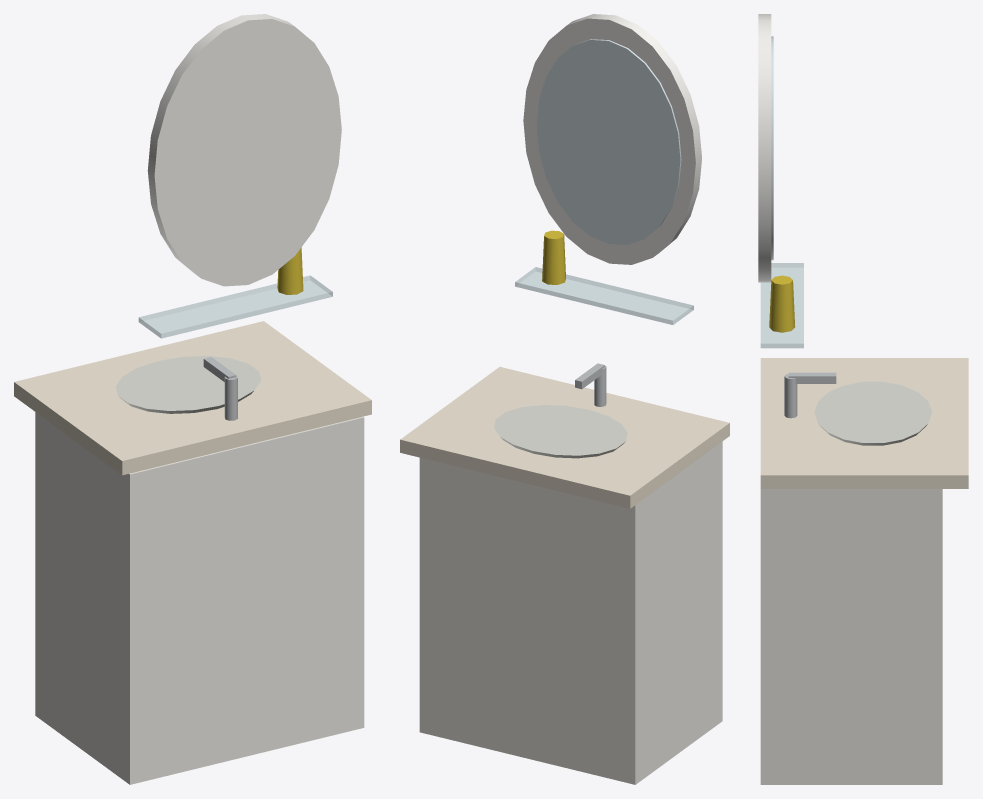
The model's file is vanity.obj.
3 renders of one model, left to right at view 1: azimuth 30°, elevation 25°; view 2: azimuth 150°, elevation 25°; view 3: azimuth 270°, elevation 25°, orthographic. The views are drawn at different scales.
Parts seen in each view (by area): view 1: vanity_0, vanity_5, vanity_1, vanity_2, vanity_7, vanity_8; view 2: vanity_0, vanity_6, vanity_1, vanity_5, vanity_2, vanity_7, vanity_8; view 3: vanity_0, vanity_1, vanity_2, vanity_5, vanity_7, vanity_8, vanity_6, vanity_3, vanity_4.
Part boxes in pixels (x1,y1,x2,y2): vanity_0: (35,412,364,784); vanity_5: (147,14,341,286); vanity_1: (14,321,371,475); vanity_2: (115,356,261,413); vanity_7: (138,275,332,338); vanity_8: (277,247,303,294); vanity_0: (419,441,722,784); vanity_6: (536,39,681,245); vanity_1: (400,367,729,508); vanity_5: (523,14,701,264); vanity_2: (494,405,627,458); vanity_7: (515,267,693,324); vanity_8: (542,230,565,284); vanity_0: (760,489,942,784); vanity_1: (760,358,968,488); vanity_2: (814,381,931,445); vanity_5: (758,14,771,282); vanity_7: (760,263,803,348); vanity_8: (769,275,795,332); vanity_6: (771,36,773,260); vanity_3: (784,374,797,418); vanity_4: (788,372,836,383).
Bounding box in the file's own units: 0.64 × 1.8 × 0.485.
